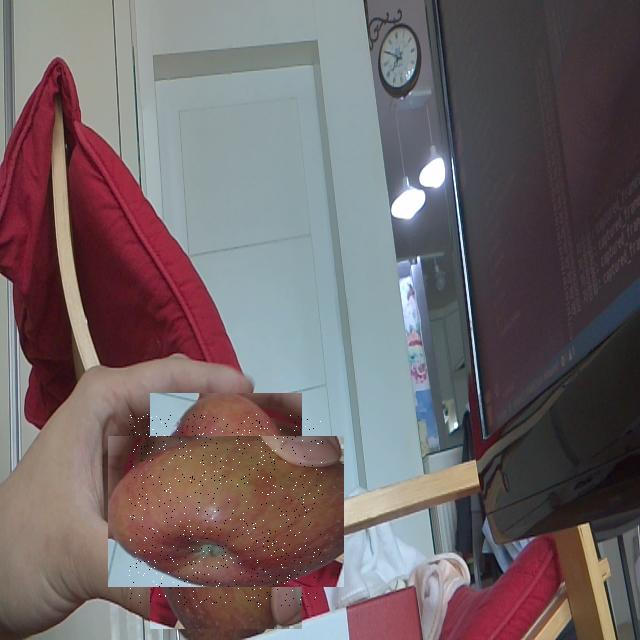apple: (129, 414, 323, 608)
